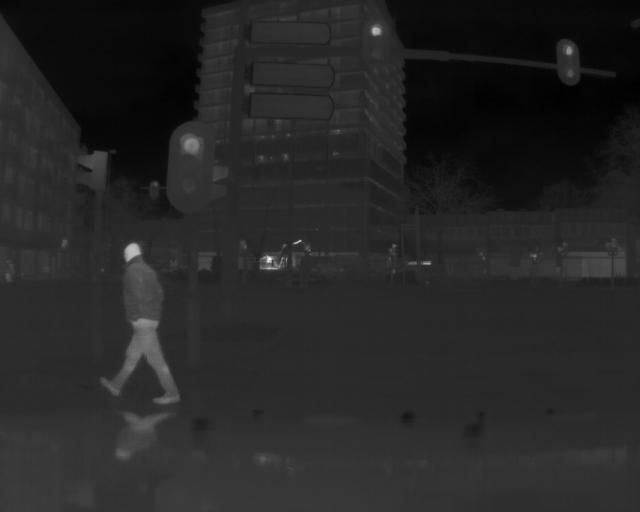person: (112, 236, 177, 406), (384, 241, 401, 275)
